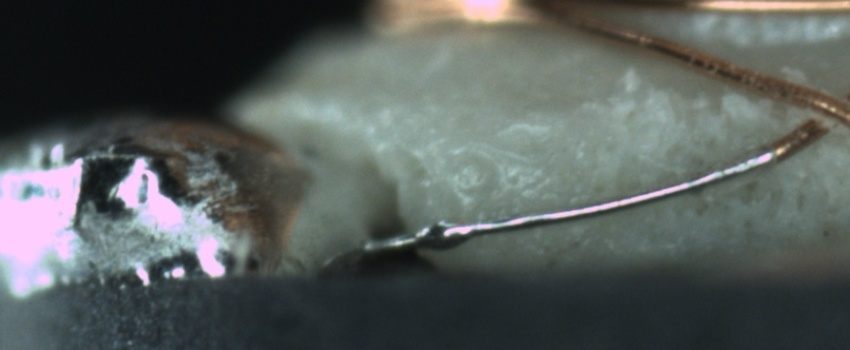CL: (770, 80, 849, 148)
DL: (426, 90, 775, 131)
TB: (415, 219, 468, 254)
TS: (365, 143, 777, 257)
TTCW: (359, 118, 824, 255)
